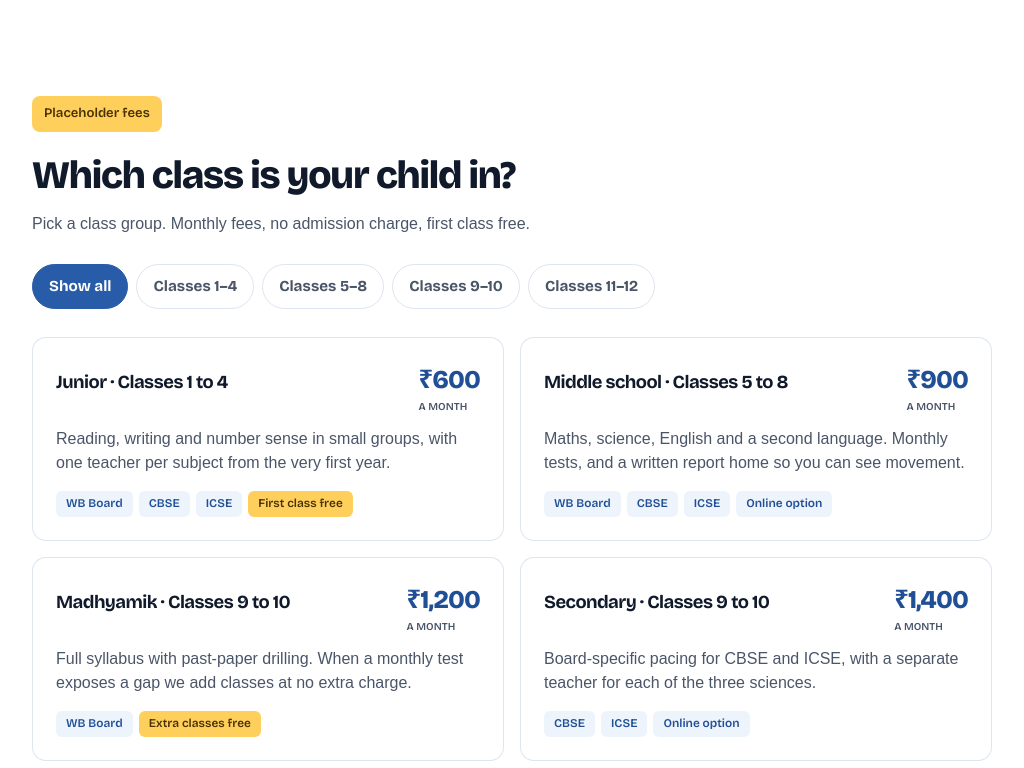
Scenario: ClassPlans › restores the full list when Show all is chosen again
Click the button "Classes 1–4".
click(195, 286)  # box [136, 264, 254, 309]
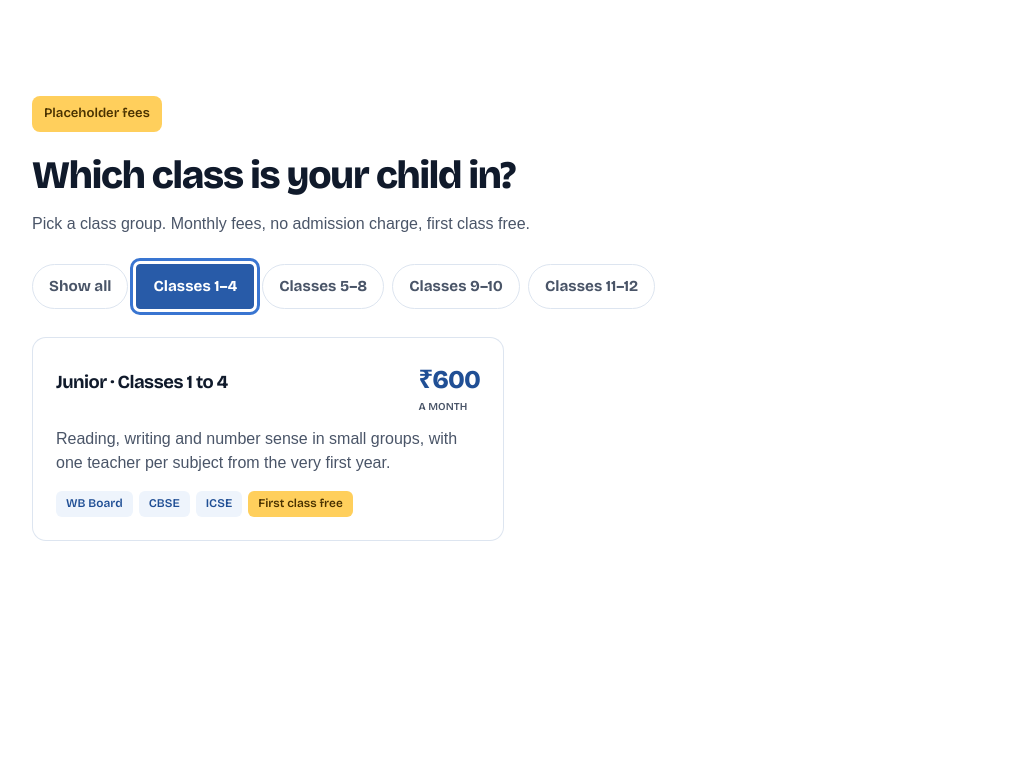
Expected: the text "Computer literacy" is not shown
Click the button "Show all".
click(80, 286)  # box [32, 264, 128, 309]
(page scrolled)
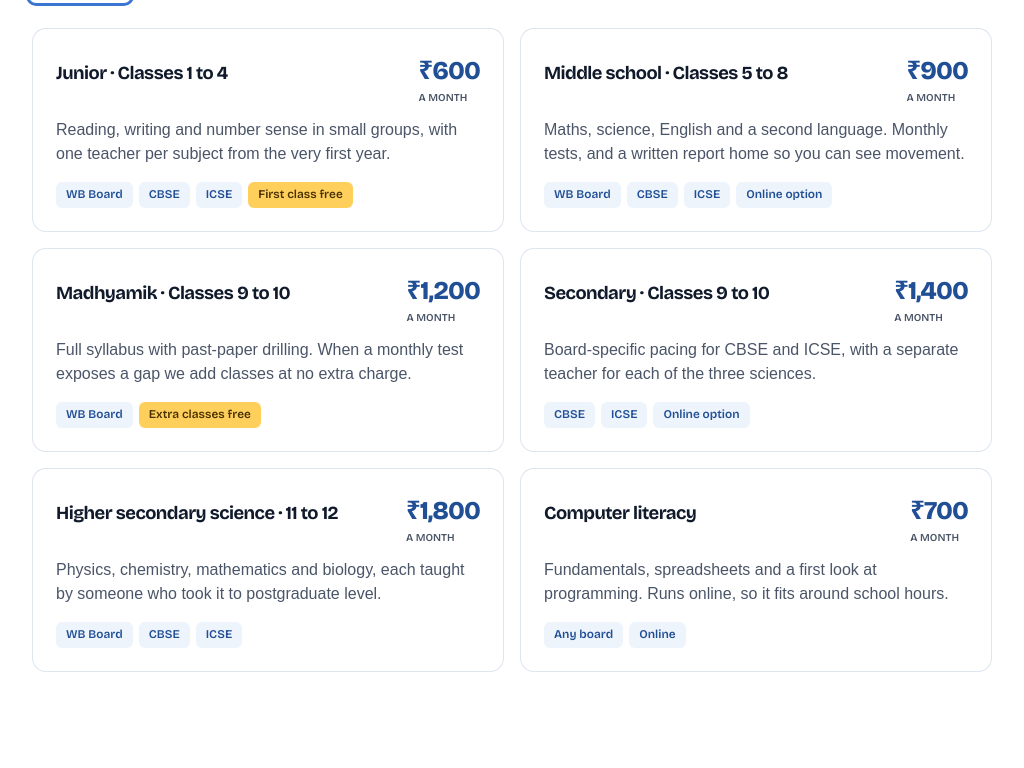
Now the heading "Computer literacy" is shown, box [544, 504, 696, 523]
